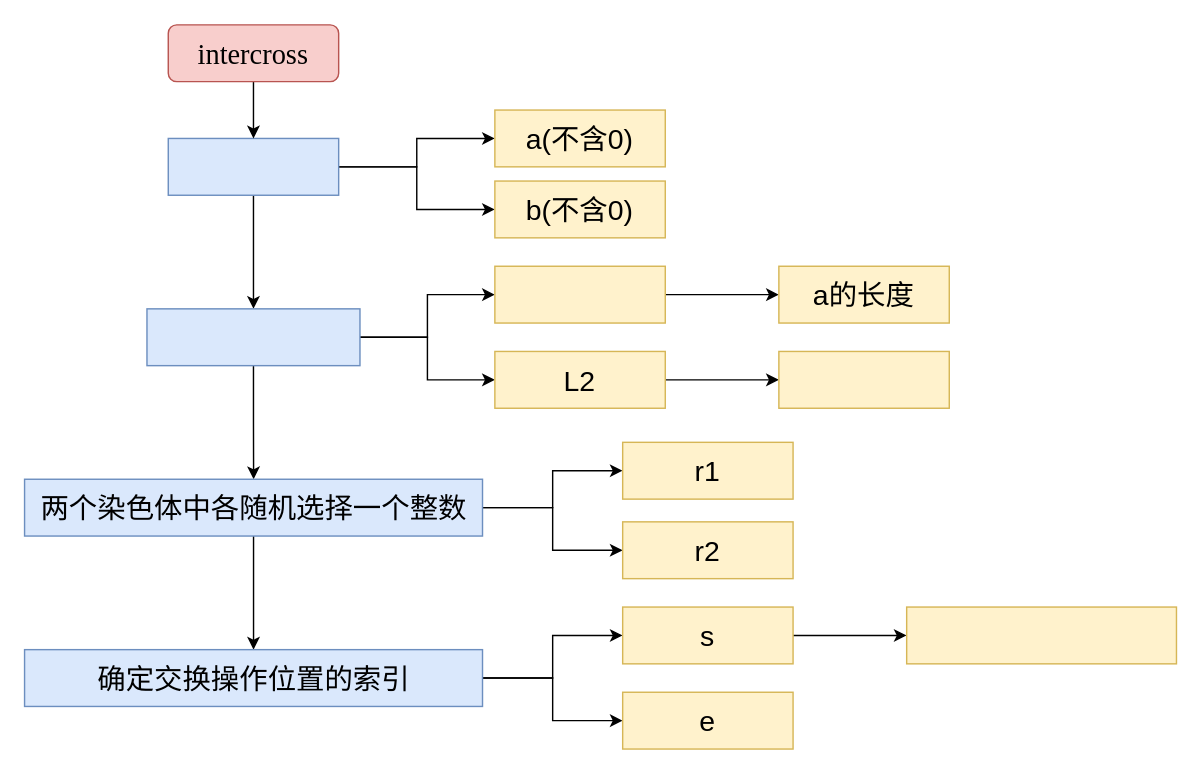
Some shapes in this 1203 by 774 pixel diagram are drawn without their labels. The shapes that lost their labels are listed below. From the top down, each one's centre as x and y in pixels, then its label:
At pixel 253 166: "剔除零元素".
At pixel 579 294: "L1".
At pixel 253 336: "获取染色体长度".
At pixel 863 379: "b的长度".
At pixel 1040 635: "r1和r2之中的较小值".
